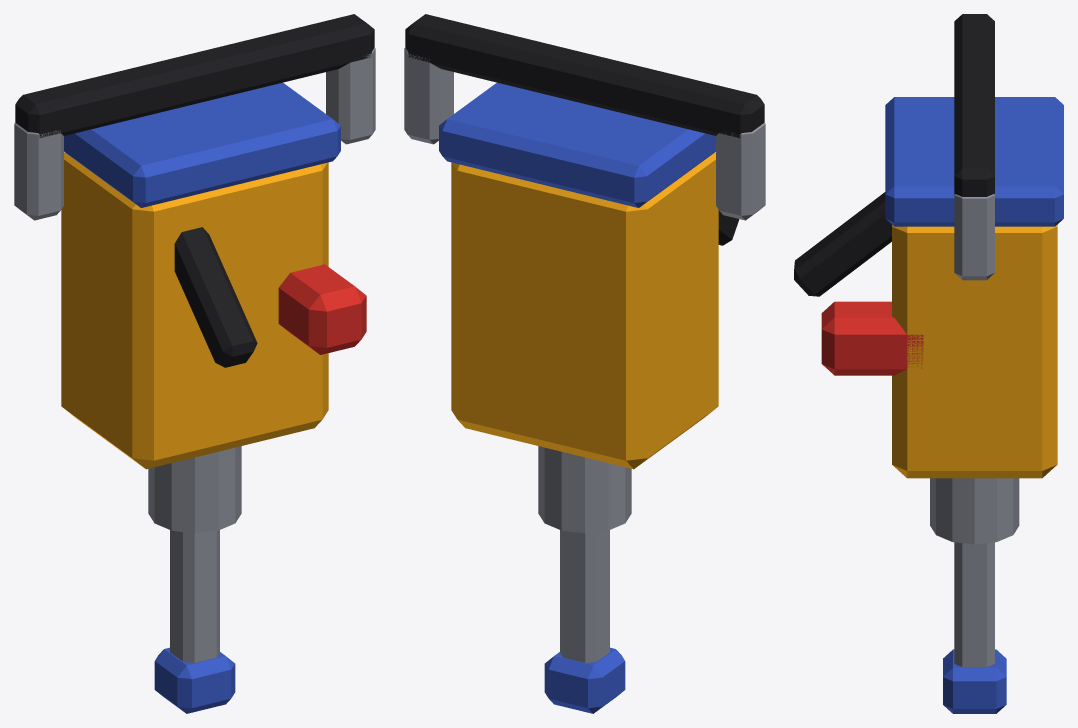
The model's file is tool_jackhammer.fbx.
3 views of the same model, side by side, from view 1: azimuth 30°, elevation 25°; view 2: azimuth 150°, elevation 25°; view 3: azimuth 270°, elevation 25° (orthographic). The views are drawn at different scales.
Parts seen in each view (by area): view 1: Root, Piston; view 2: Root, Piston; view 3: Root, Piston.
Boxes of the visible parts, bbox=[...] form: Root: bbox=[14, 14, 375, 469]; Piston: bbox=[148, 446, 241, 713]; Root: bbox=[404, 14, 765, 469]; Piston: bbox=[538, 446, 631, 713]; Root: bbox=[794, 14, 1063, 478]; Piston: bbox=[930, 478, 1019, 713].
Bounding box in the file's own units: 3.02 × 5.31 × 2.12.
